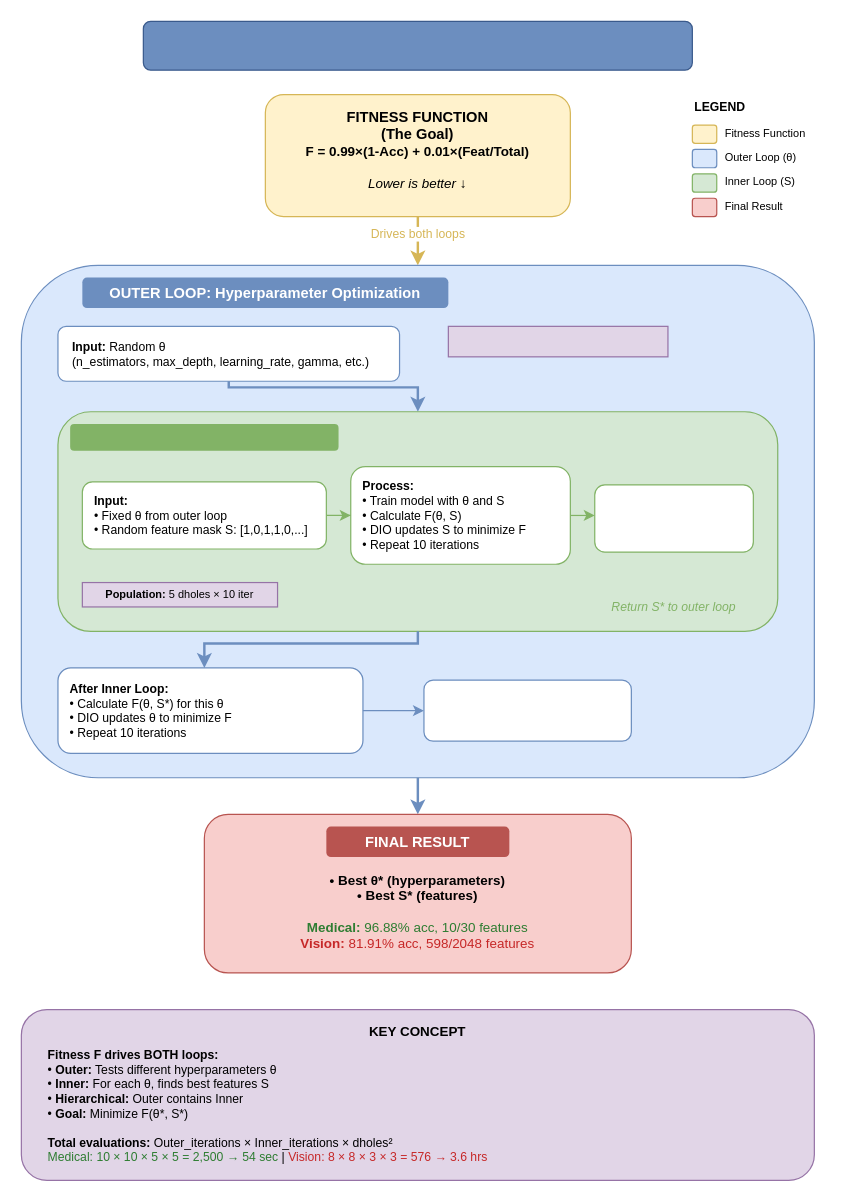
The diagram is 842 pixels wide and 1202 high, and some of its shapes have lost their labels. Each missing label, with the centre of its shape:
"DIO OPTIMIZATION: FITNESS-DRIVEN PROCESS" belongs at [417,45].
"INNER LOOP: Feature Selection" belongs at [204,436].
"Output: Best features S* for this θ" belongs at [673,518].
"Output: Best hyperparameters θ*" belongs at [527,710].
"Population: 5 dholes × 10 iterations" belongs at [557,341].
